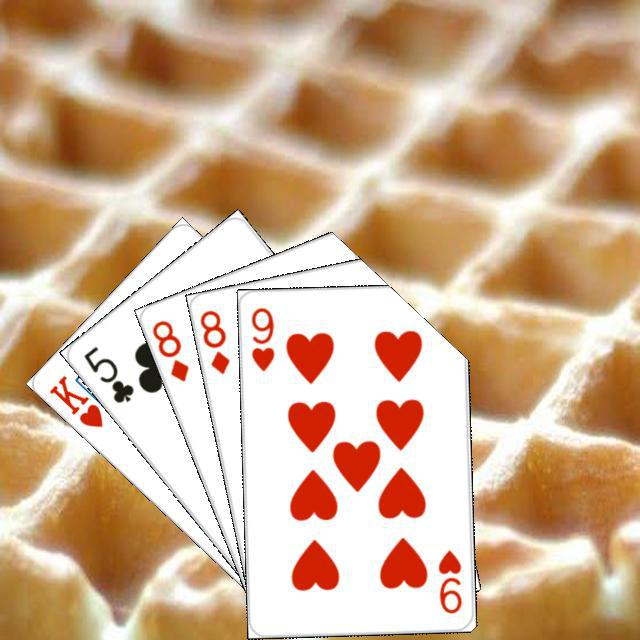5c: (78, 341, 136, 405)
8d: (147, 315, 191, 384), (195, 305, 232, 376)
9h: (433, 545, 464, 616), (246, 302, 276, 373)
Kh: (44, 370, 120, 429)
